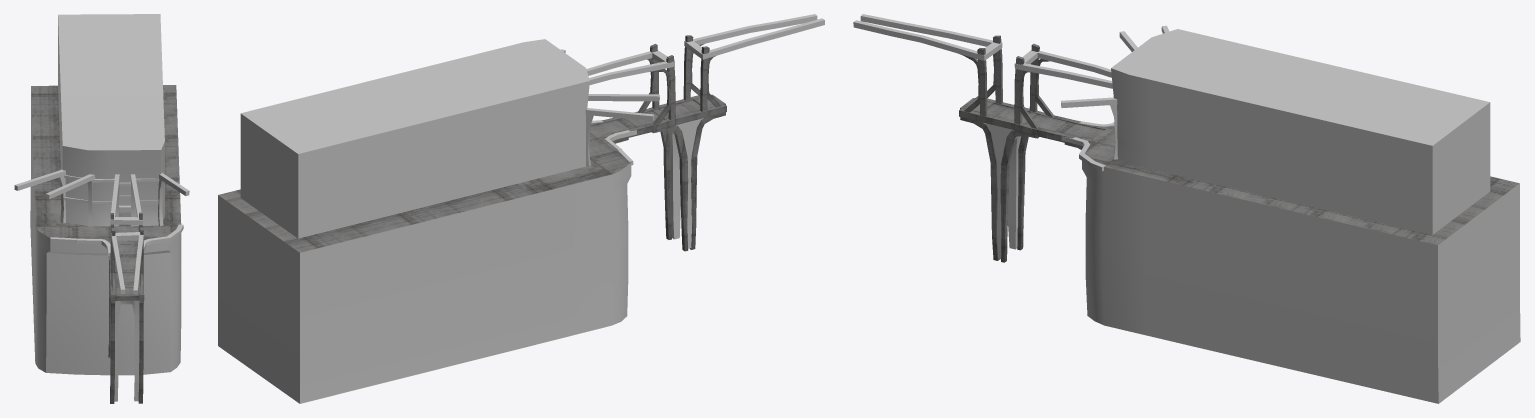
The picture shows the model from 3 angles, left to right: view 1: azimuth 30°, elevation 25°; view 2: azimuth 150°, elevation 25°; view 3: azimuth 270°, elevation 25°; orthographic projection. The views are drawn at different scales.
Parts seen in each view (by area): view 1: Cube.016; view 2: Cube.016; view 3: Cube.016.
Part boxes in pixels (x1,y1,x2,y2): Cube.016: (14,14,189,403); Cube.016: (218,14,824,403); Cube.016: (853,14,1520,403).
Bounding box in the file's own units: 9160 × 6182 × 15046.
